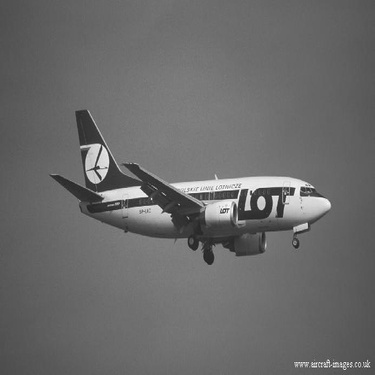airplane: (36, 93, 343, 269)
